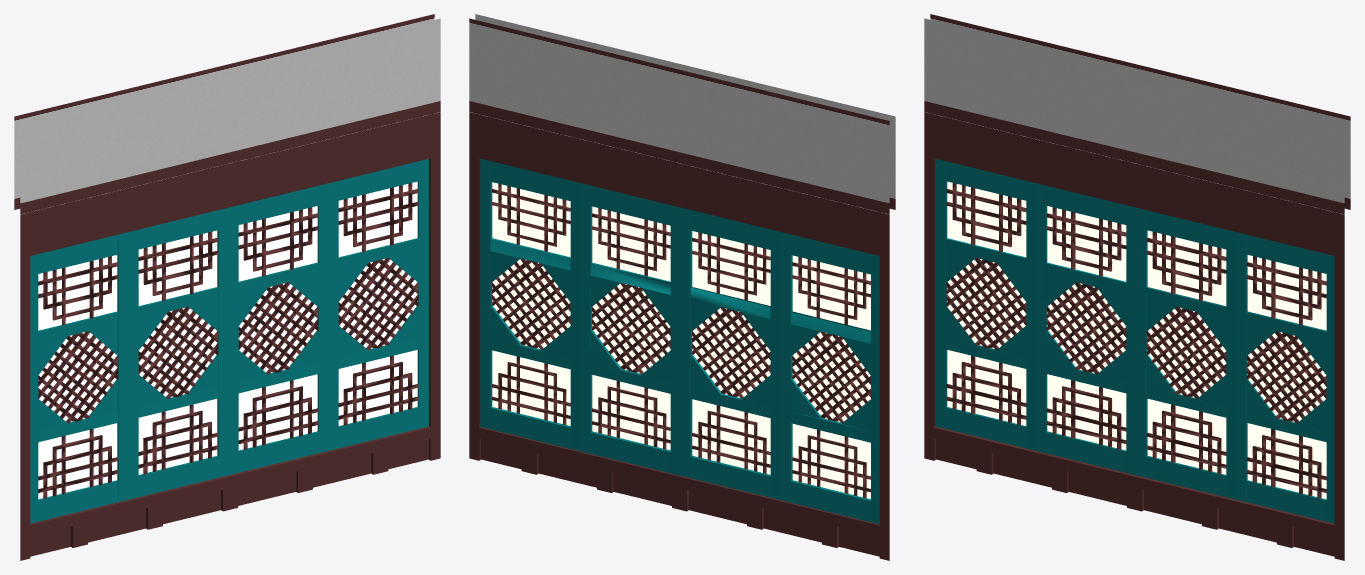
The model's file is corridorwindow.fbx.
3 views of the same model, side by side, from view 1: azimuth 30°, elevation 25°; view 2: azimuth 150°, elevation 25°; view 3: azimuth 330°, elevation 25° (orthographic).
Visible parts, largest first — view 1: corridorwindow; view 2: corridorwindow; view 3: corridorwindow.
Part boxes in pixels (<box>): corridorwindow: <box>14,14,440,560</box>; corridorwindow: <box>469,14,895,560</box>; corridorwindow: <box>924,14,1350,560</box>.
Bounding box in the file's own units: 400 × 400 × 10.
